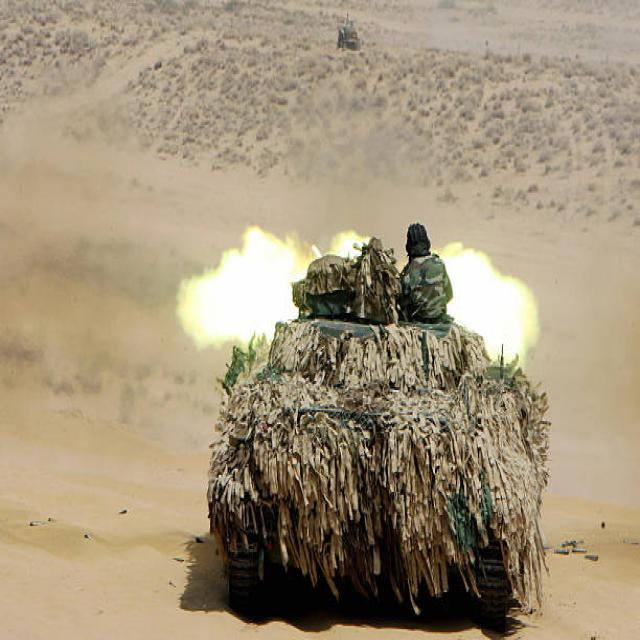soldier: (398, 222, 453, 325)
